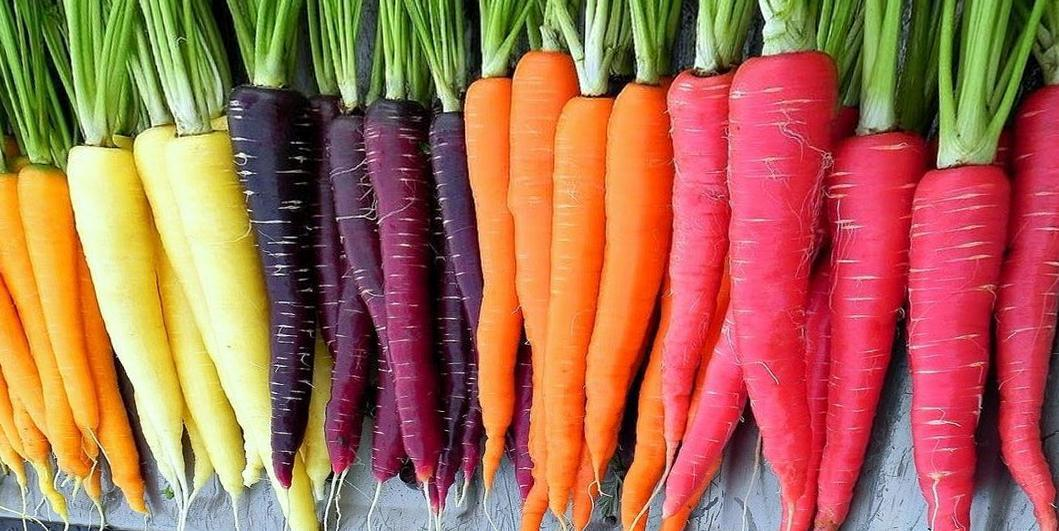carrot: (472, 52, 650, 517), (0, 167, 118, 531)
